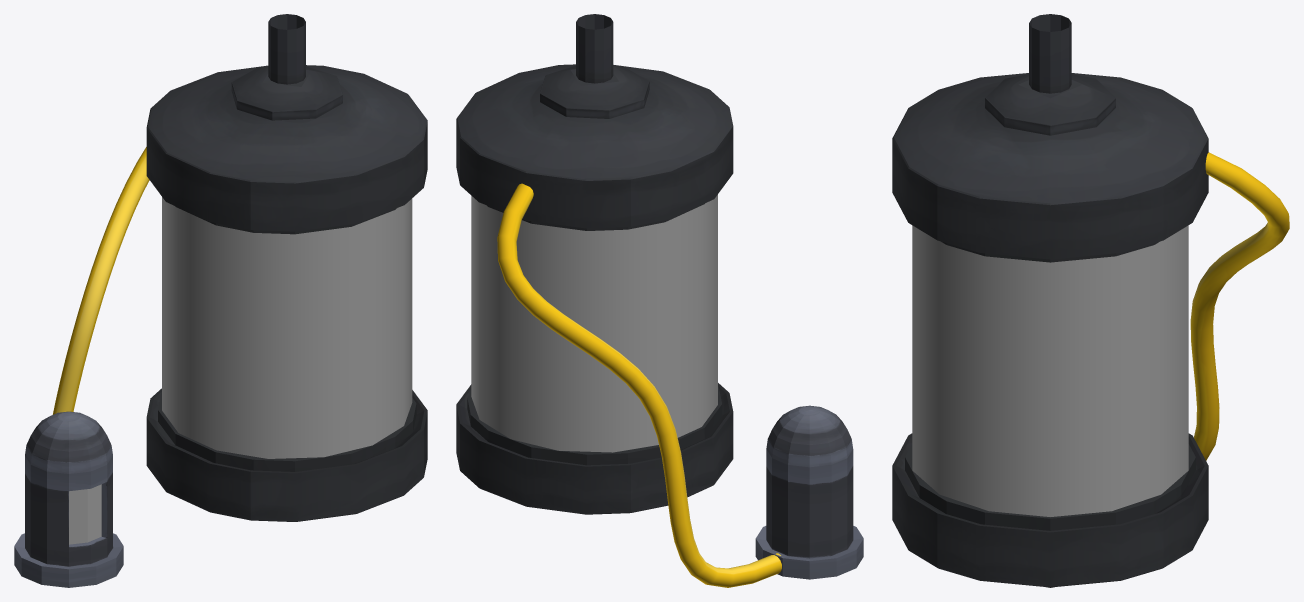
Rendered from TestContainer_1.fbx.
3 views of the same model, side by side, from view 1: azimuth 30°, elevation 25°; view 2: azimuth 150°, elevation 25°; view 3: azimuth 270°, elevation 25° (orthographic). The views are drawn at different scales.
Visible parts, largest first — view 1: polySurface11, polySurface3, polySurface1, polySurface12, pCylinder7, polySurface5, polySurface13; view 2: polySurface11, polySurface3, polySurface1, polySurface12, pCylinder7, polySurface5; view 3: polySurface11, polySurface3, polySurface1, pCylinder7, polySurface5.
Part boxes in pixels (x1=…): polySurface11: x1=162, y1=197, x2=412, y2=458; polySurface3: x1=146, y1=65, x2=427, y2=234; polySurface1: x1=146, y1=388, x2=427, y2=521; polySurface12: x1=14, y1=411, x2=123, y2=587; pCylinder7: x1=52, y1=147, x2=149, y2=414; polySurface5: x1=268, y1=14, x2=305, y2=84; polySurface13: x1=69, y1=484, x2=101, y2=544; polySurface11: x1=471, y1=194, x2=717, y2=452; polySurface3: x1=456, y1=64, x2=733, y2=230; polySurface1: x1=456, y1=383, x2=733, y2=514; polySurface12: x1=755, y1=405, x2=863, y2=579; pCylinder7: x1=497, y1=183, x2=781, y2=587; polySurface5: x1=576, y1=14, x2=613, y2=83; polySurface11: x1=912, y1=225, x2=1188, y2=516; polySurface3: x1=892, y1=73, x2=1208, y2=262; polySurface1: x1=892, y1=433, x2=1208, y2=587; pCylinder7: x1=1190, y1=152, x2=1289, y2=460; polySurface5: x1=1029, y1=14, x2=1071, y2=93.
Size of the model in its own units: 355 by 432 by 279.
2 materials, 1 textured.
